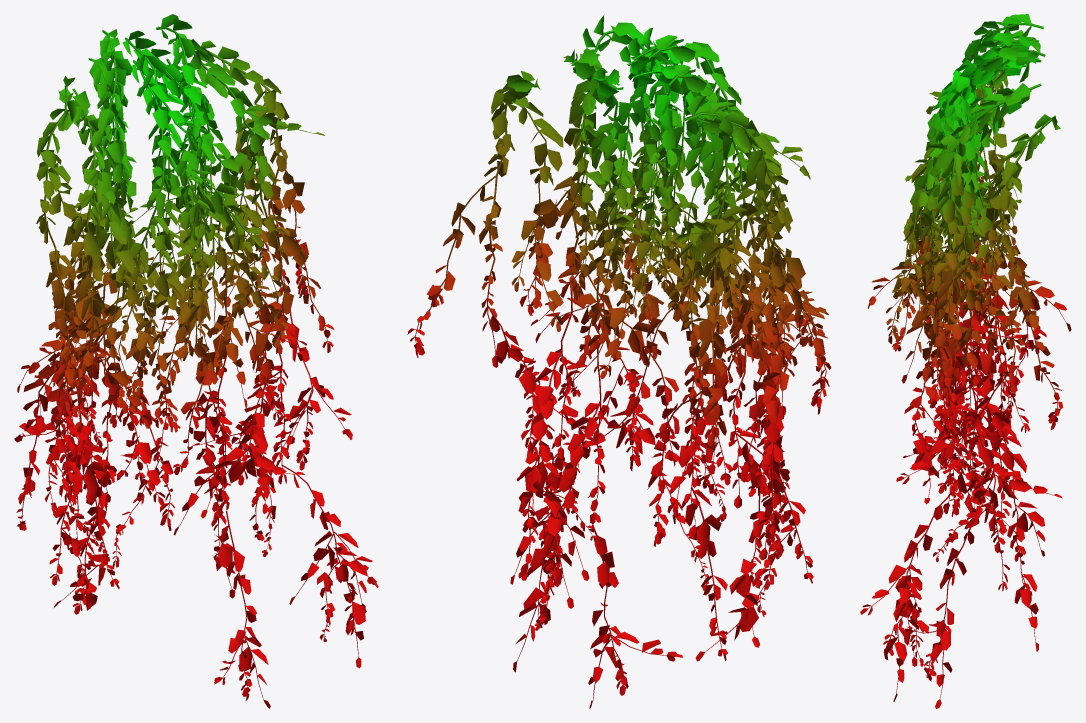
The model's file is Var2_LOD3.fbx.
3 views of the same model, side by side, from view 1: azimuth 30°, elevation 25°; view 2: azimuth 150°, elevation 25°; view 3: azimuth 270°, elevation 25° (orthographic). The views are drawn at different scales.
Visible parts, largest first — view 1: _966o_Var2_LOD3; view 2: _966o_Var2_LOD3; view 3: _966o_Var2_LOD3.
Boxes of the visible parts, <box> form: _966o_Var2_LOD3: <box>14,14,378,708</box>; _966o_Var2_LOD3: <box>407,14,831,708</box>; _966o_Var2_LOD3: <box>860,14,1071,708</box>.
Bounding box in the file's own units: 118 × 238 × 71.18.
